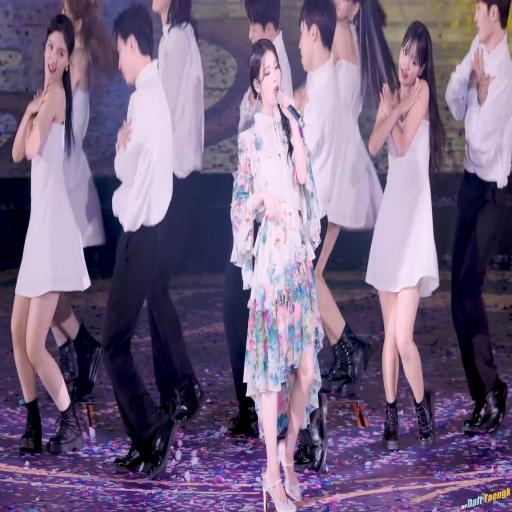IU: (248, 38, 282, 108)
